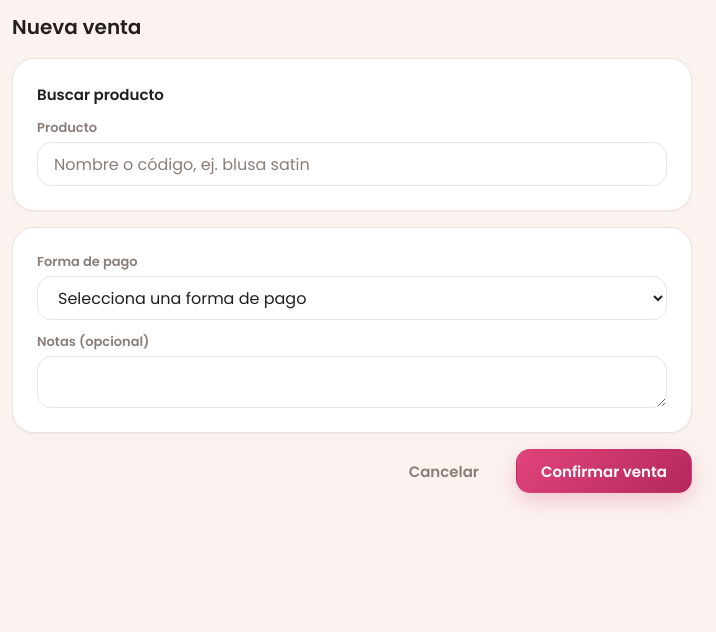
Test: SaleFormPage › busca un producto y muestra tallas primero, luego colores con stock
Type "blusa satin" into the field labelled "Producto".
click(352, 164); type("blusa satin")  # box [37, 142, 667, 186]
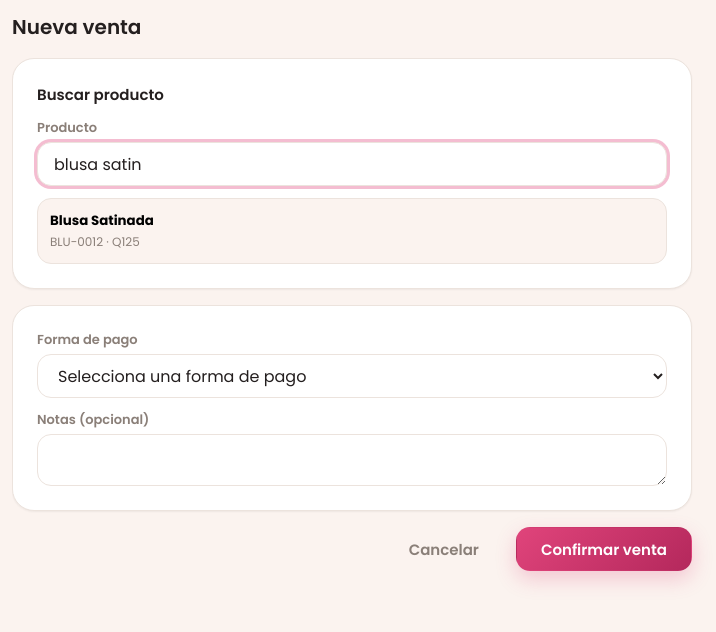
Click the button "Blusa Satinada BLU-0012 · Q125".
click(102, 220)  # box [37, 198, 667, 264]
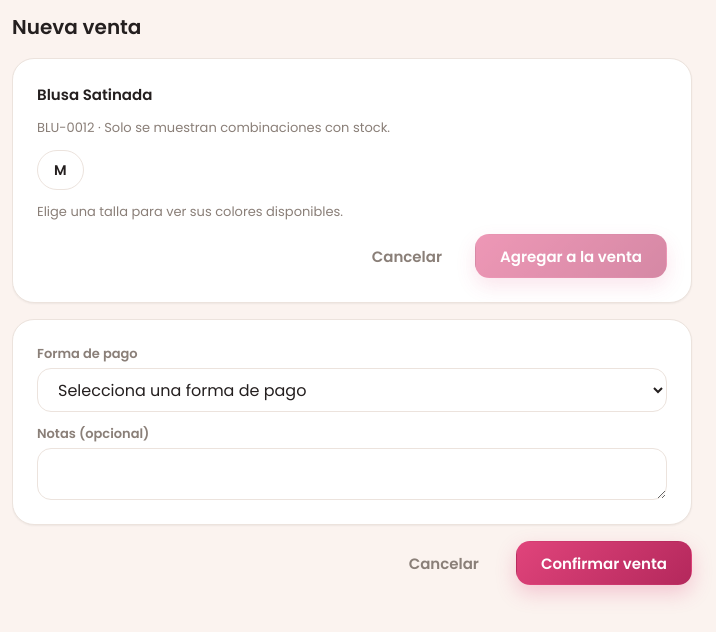
Check: the button "M" is shown
Check: the text "Elige una talla para ver sus colores disponibles." is shown, box [37, 202, 343, 221]
Click the button "M".
click(60, 170)  # box [37, 150, 84, 190]
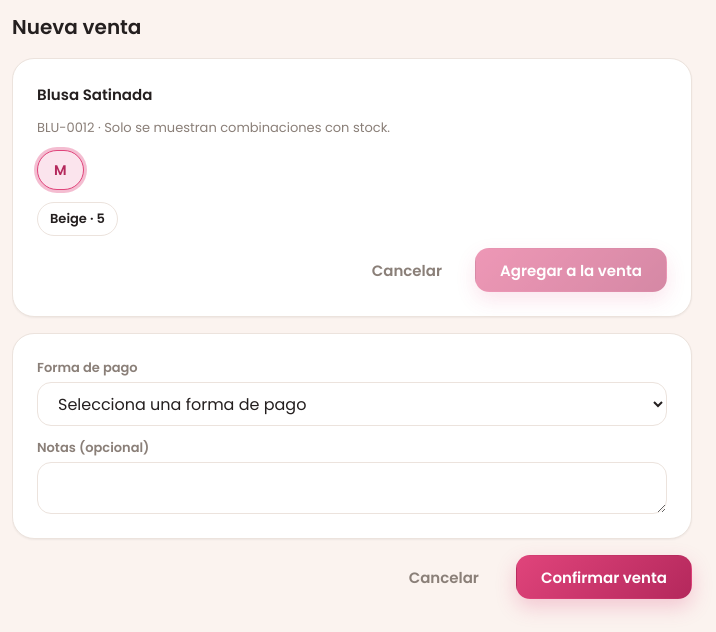
Check: the button "Beige · 5" is shown, box [37, 202, 118, 236]
